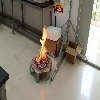fire: (35, 23, 47, 65)
